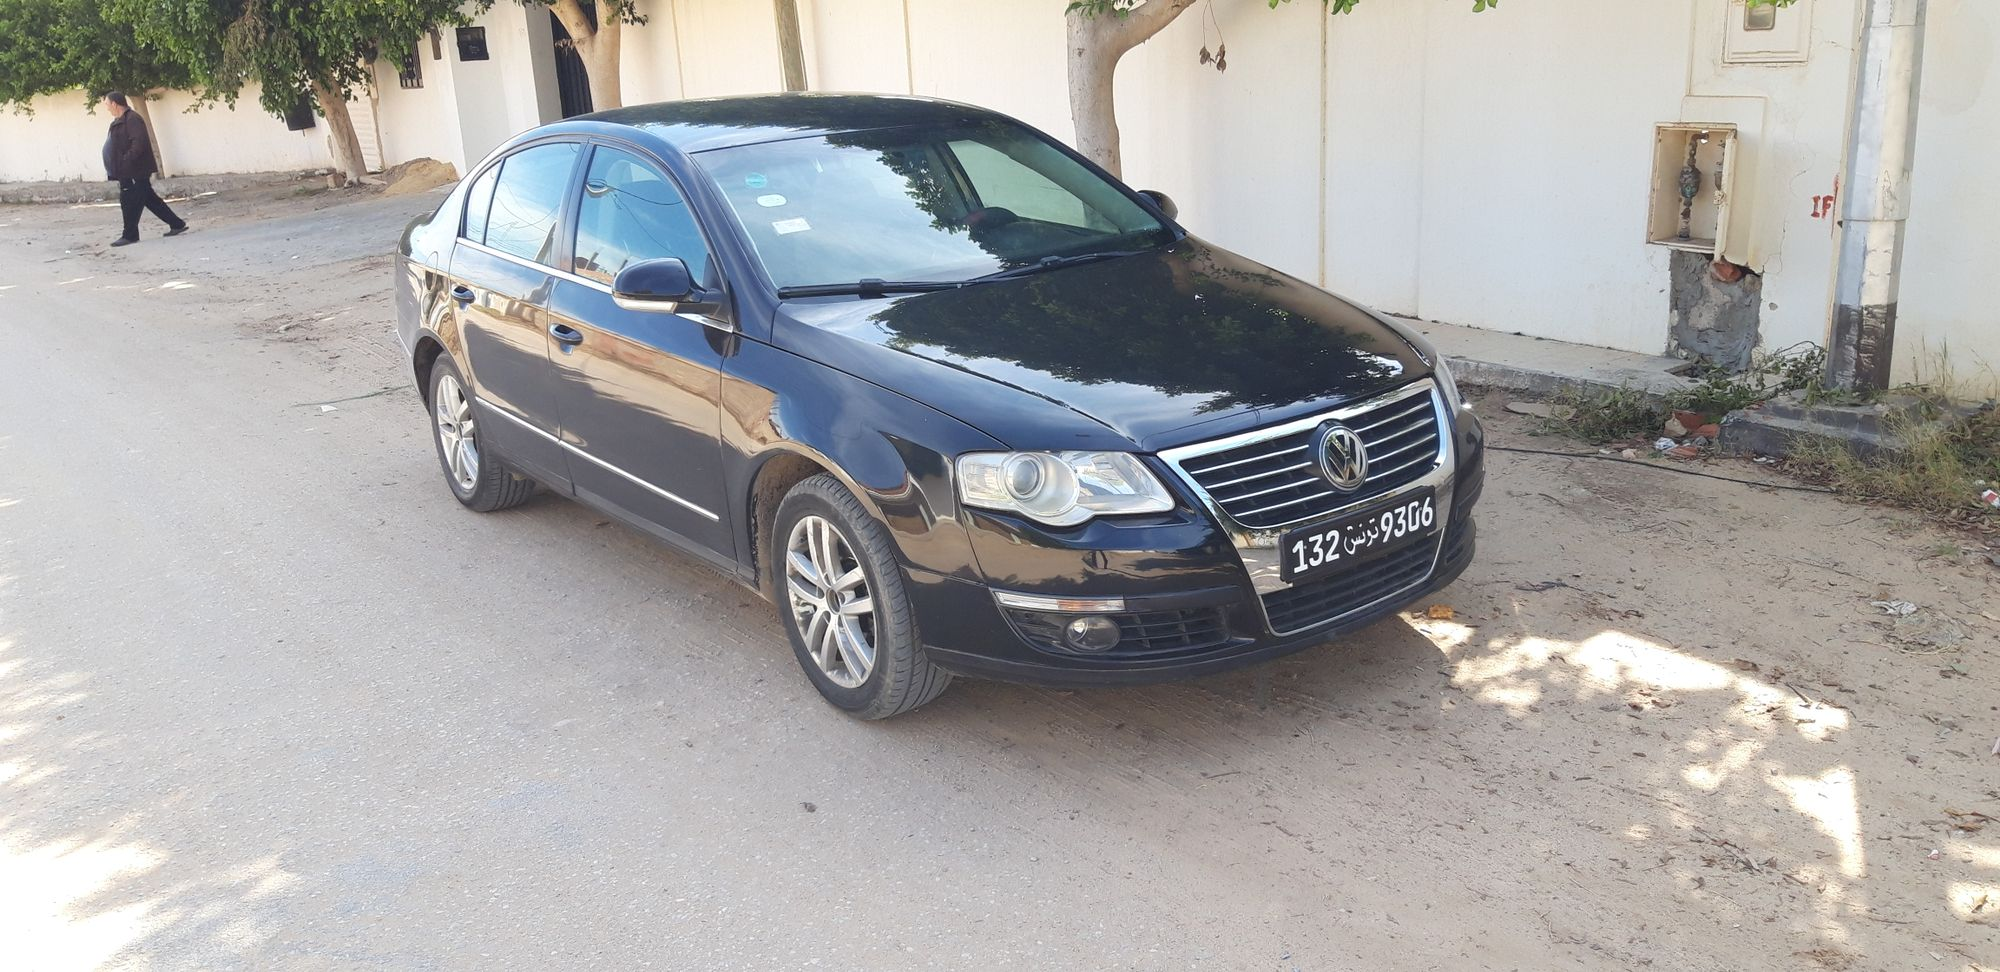LP: (1274, 481, 1441, 587)
